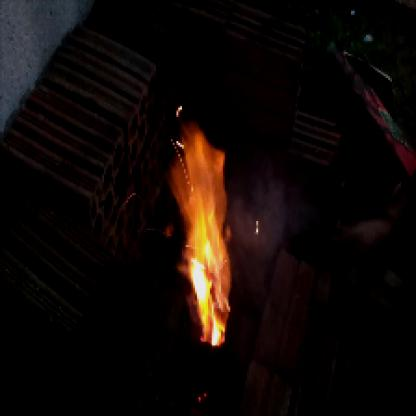Fire: (166, 109, 242, 353)
